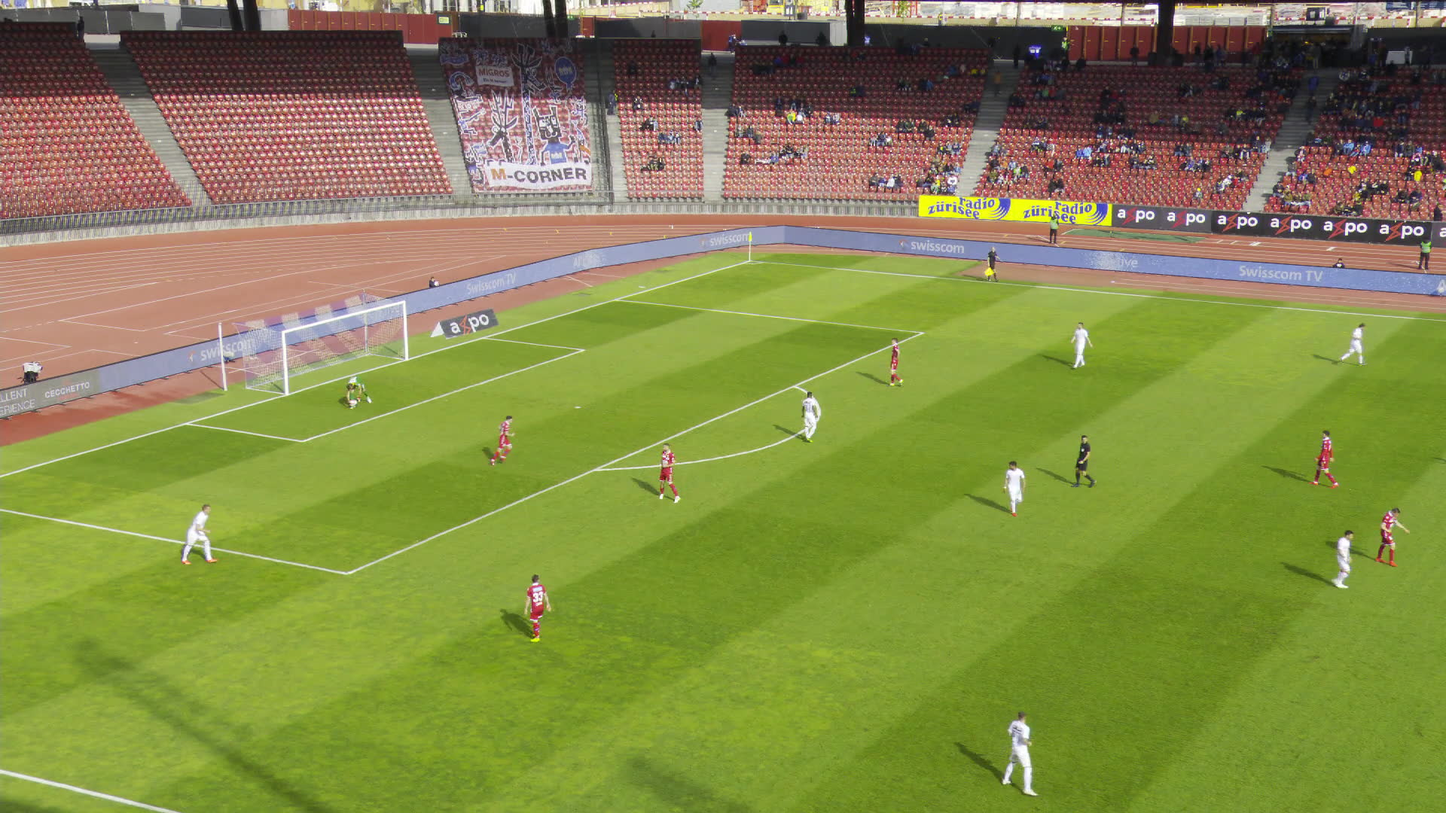ball: (350, 399, 357, 407)
player: (176, 496, 217, 566), (1000, 710, 1033, 794), (521, 571, 550, 641), (1373, 505, 1404, 565), (1326, 530, 1355, 589), (1307, 428, 1335, 486), (656, 441, 679, 500), (488, 415, 515, 464), (1001, 460, 1024, 517), (1338, 321, 1365, 366), (1068, 321, 1092, 368), (798, 391, 818, 443), (343, 373, 373, 407), (885, 337, 900, 385)
referee: (1072, 433, 1090, 487), (984, 246, 999, 282)
